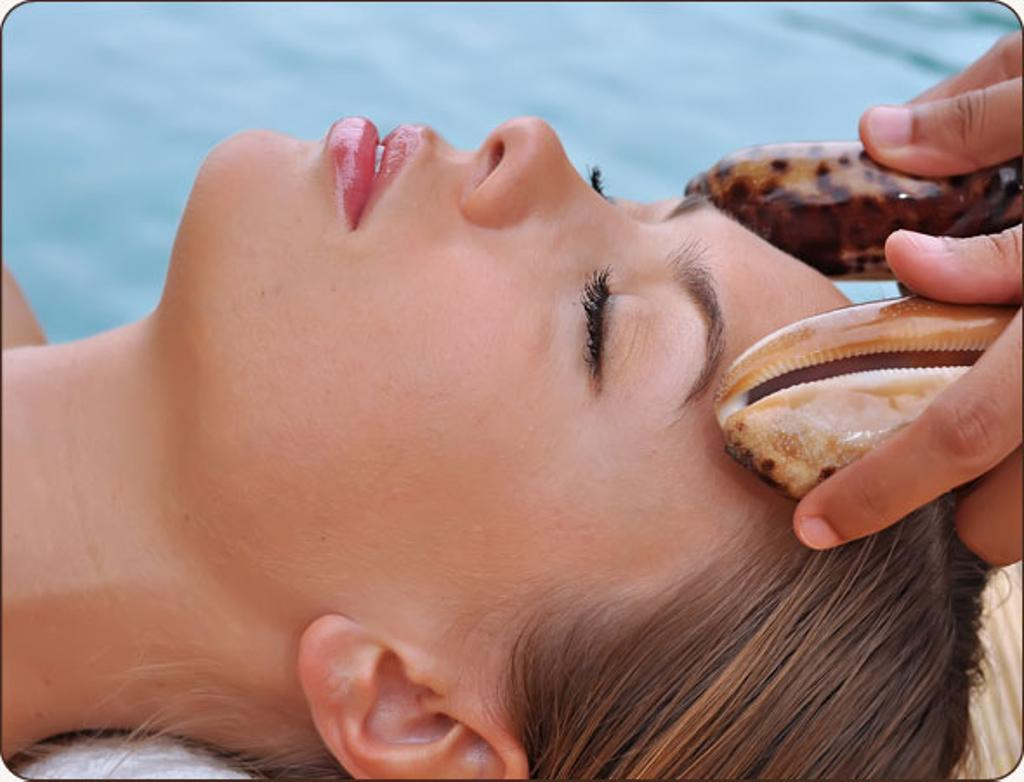face: (193, 123, 875, 569)
